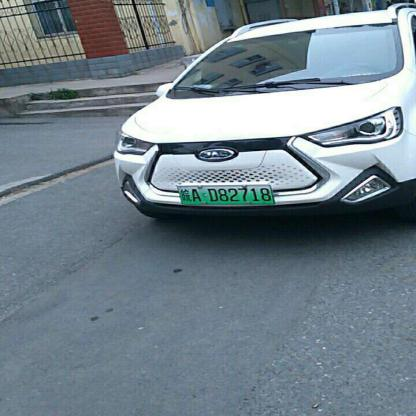lp: (177, 184, 273, 202)
